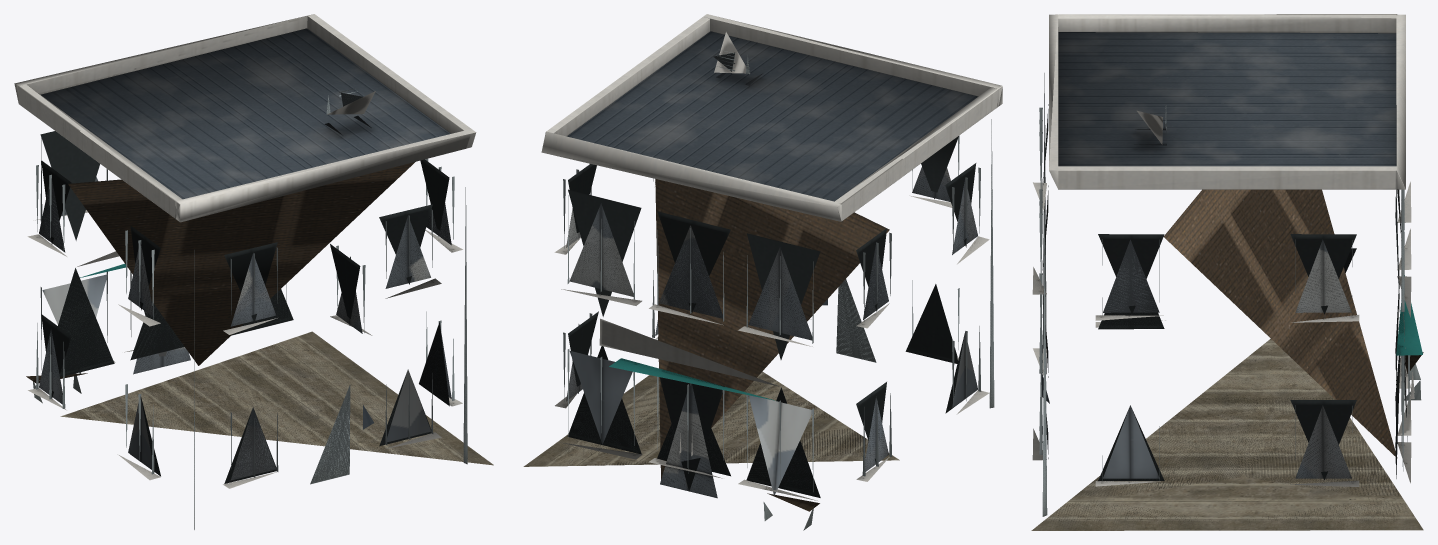
The model's file is public_004.lod2.obj.
3 renders of one model, left to right at view 1: azimuth 30°, elevation 25°; view 2: azimuth 150°, elevation 25°; view 3: azimuth 270°, elevation 25°, orthographic. The views are drawn at different scales.
Visible parts, largest first — view 1: public_004; view 2: public_004; view 3: public_004.
Part boxes in pixels (bbox=[...]): public_004: bbox=[14, 14, 493, 529]; public_004: bbox=[523, 14, 1002, 530]; public_004: bbox=[1031, 14, 1423, 530].
Bounding box in the file's own units: 6.5 × 7.02 × 6.51.
Materials: 1 (1 with a texture image).
